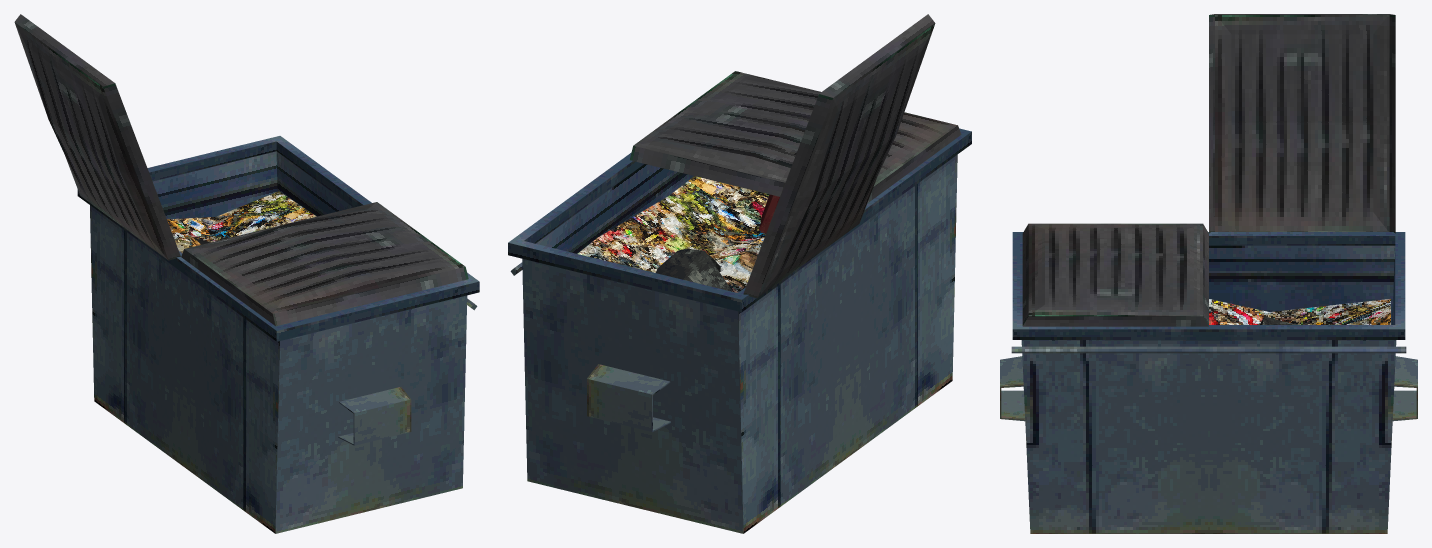
File: dumpster_full_lid_open_blue.glb
3 renders of one model, left to right at view 1: azimuth 30°, elevation 25°; view 2: azimuth 150°, elevation 25°; view 3: azimuth 270°, elevation 25°, orthographic. The views are drawn at different scales.
Visible parts, largest first — view 1: dumpster_full_lid_open_blue; view 2: dumpster_full_lid_open_blue; view 3: dumpster_full_lid_open_blue.
Boxes of the visible parts, x1,y1,x2,y2 form: dumpster_full_lid_open_blue: (14, 14, 479, 533); dumpster_full_lid_open_blue: (508, 14, 971, 533); dumpster_full_lid_open_blue: (1000, 14, 1417, 533).
Size of the model in its own units: 2.74 by 3.84 by 3.67.
Materials: 3 (3 with a texture image).
